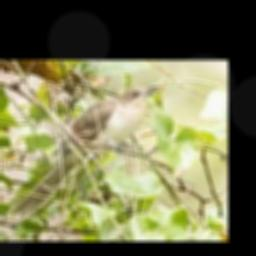Cuckoo: (8, 84, 157, 218)
